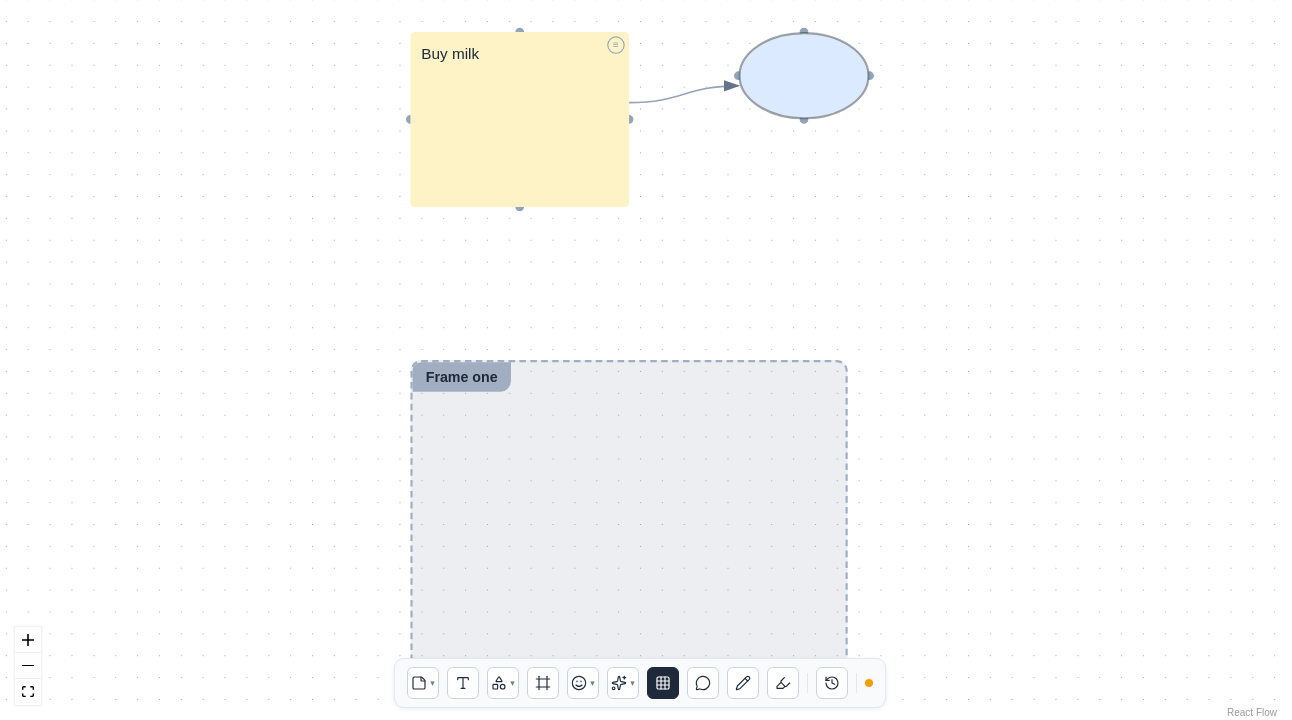
Test case: BoardCanvas — pencil + annotation overlays, mode exclusivity (P6-T35) › activating pencil mode deactivates comment mode
Click the button named "comment": click(703, 683) [687,667,719,699]
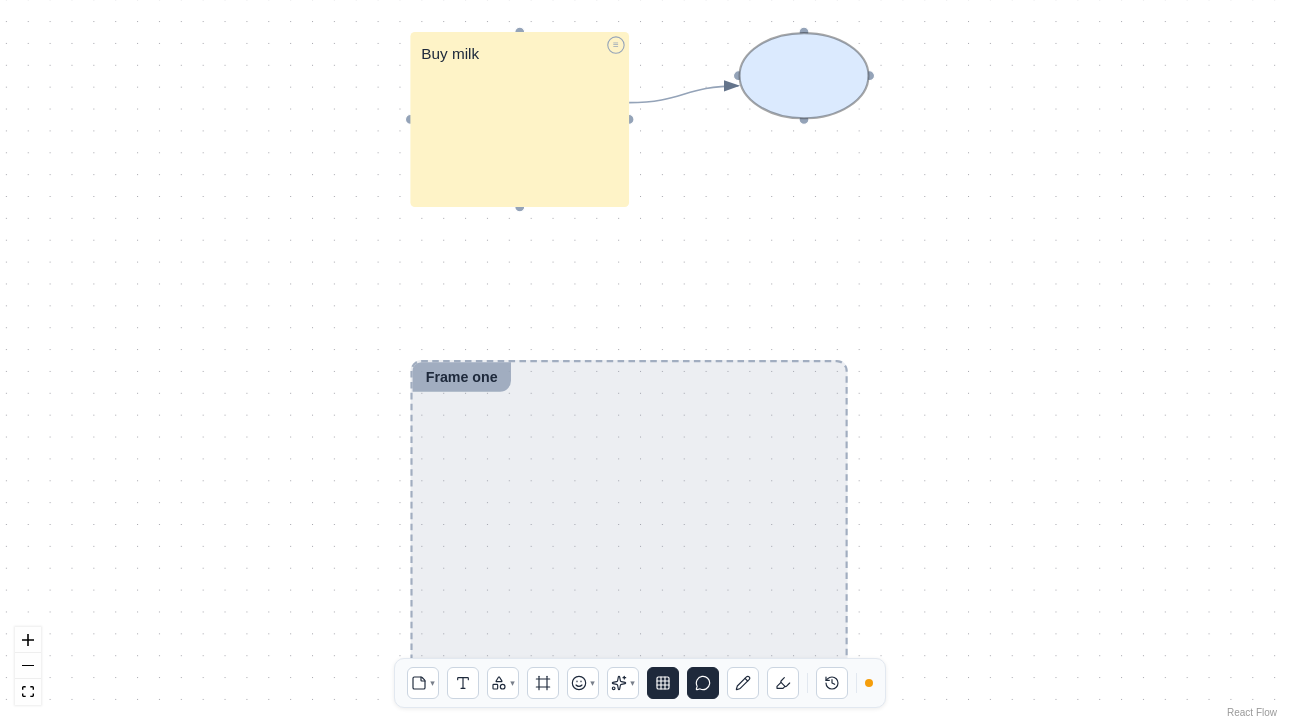
Check: the element with test id "comment-placement-overlay" is shown
Click the button named "pencil": click(743, 683) [727,667,759,699]
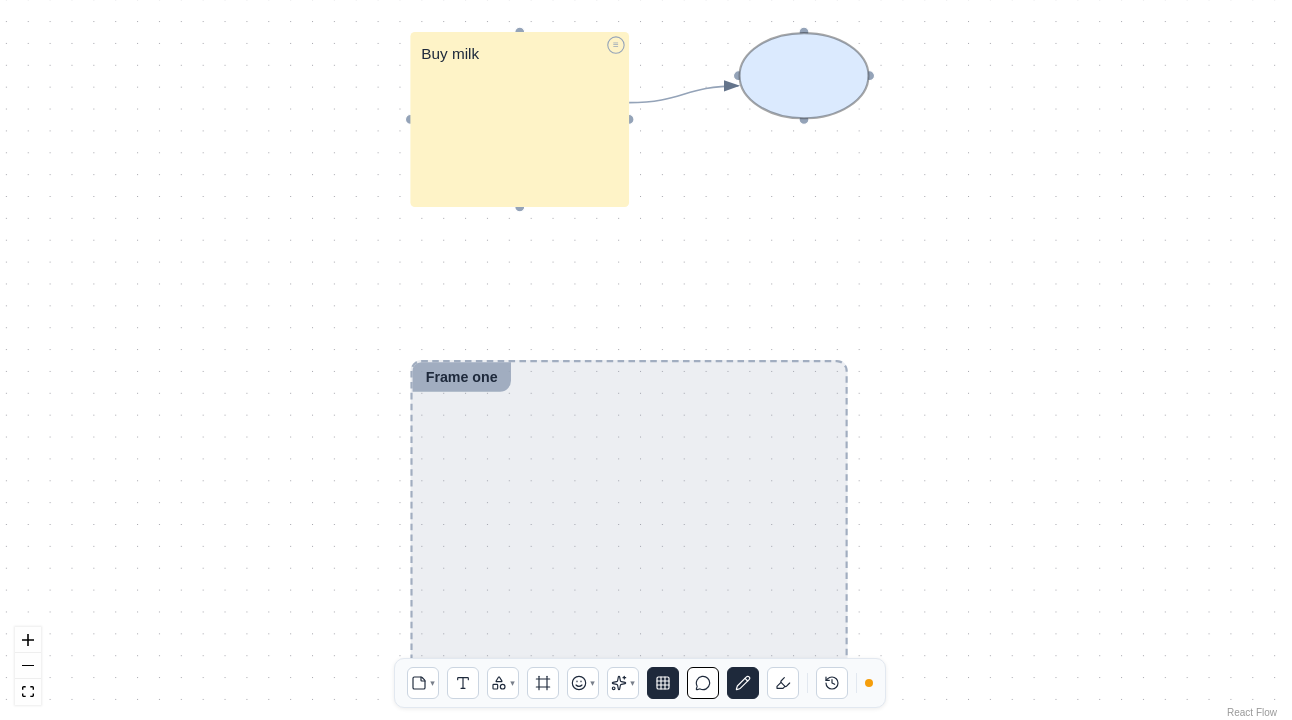
Check: the element with test id "comment-placement-overlay" is gone
Check: the element with test id "pencil-overlay" is shown
